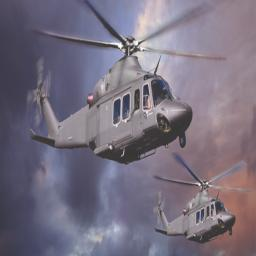helicopter: (23, 2, 230, 166), (152, 149, 239, 248)
